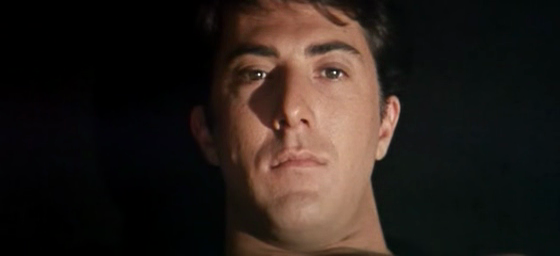ecu: (1, 1, 560, 256)
face: (204, 1, 381, 239)
person: (188, 1, 401, 256)
